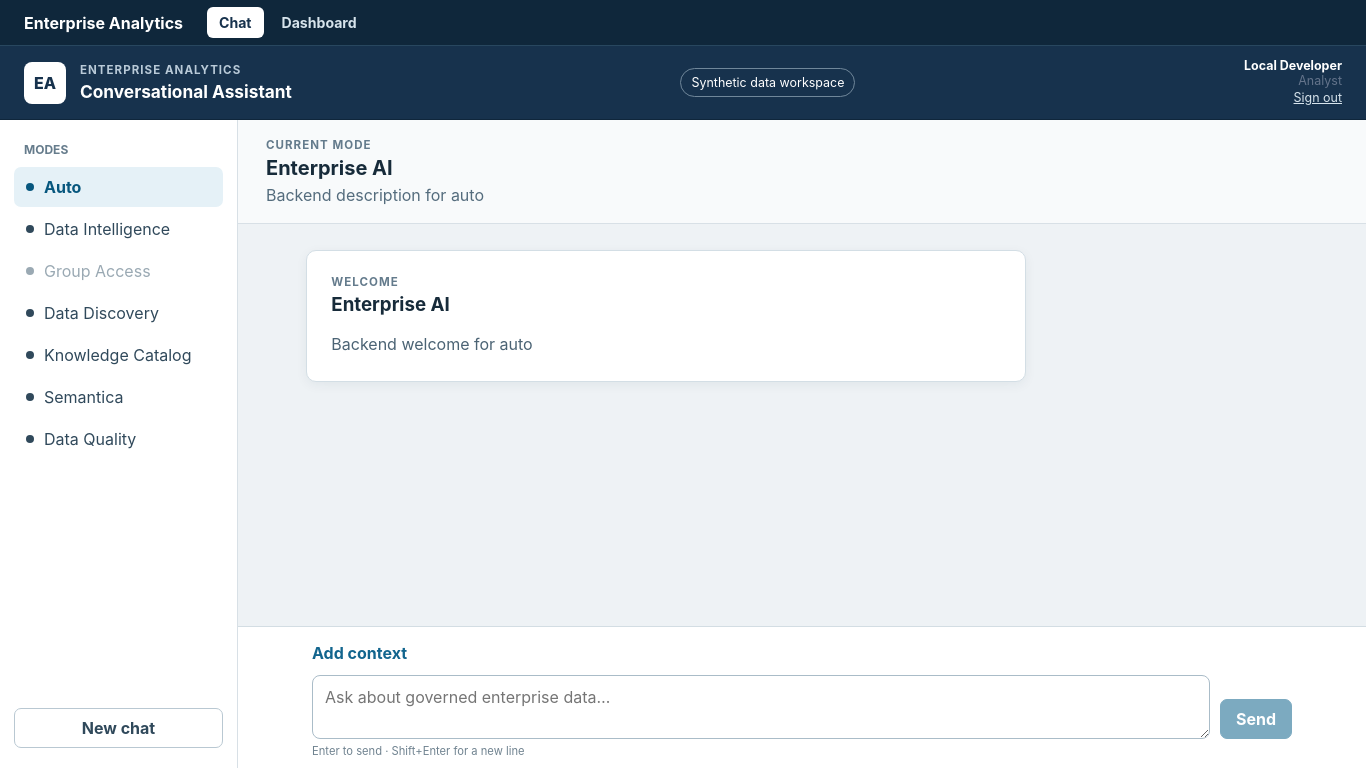
One UI › SQL response is read-only in the UI and Run Query renders rows/chart/truncation
The image size is (1366, 768).
Expected: the text "Backend welcome for auto" is shown, [331,334,533,354]
Click the button "Data Intelligence" at {"x": 118, "y": 229}, box [14,209,223,249]
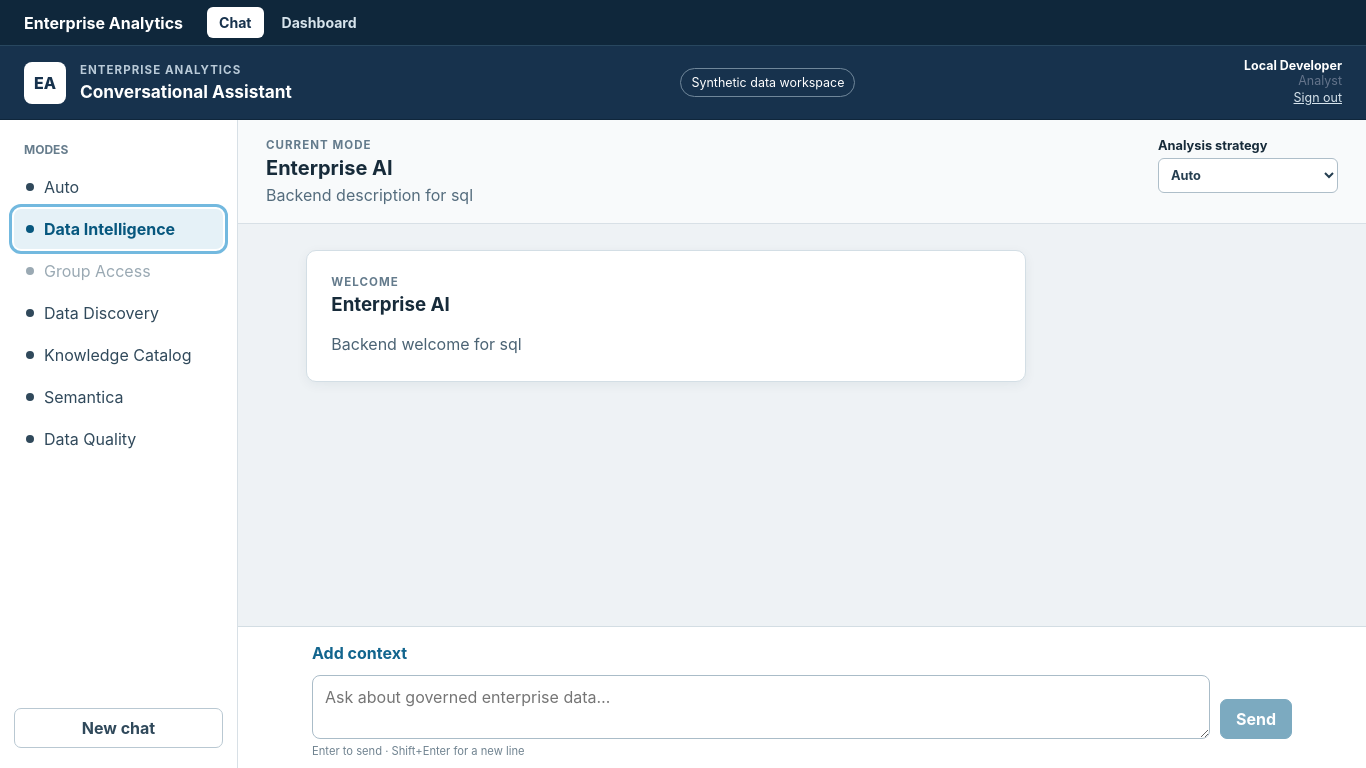
Select "Standard" in the dropdown labelled "Analysis strategy" at {"x": 1248, "y": 176}, box [1158,158,1338,193]
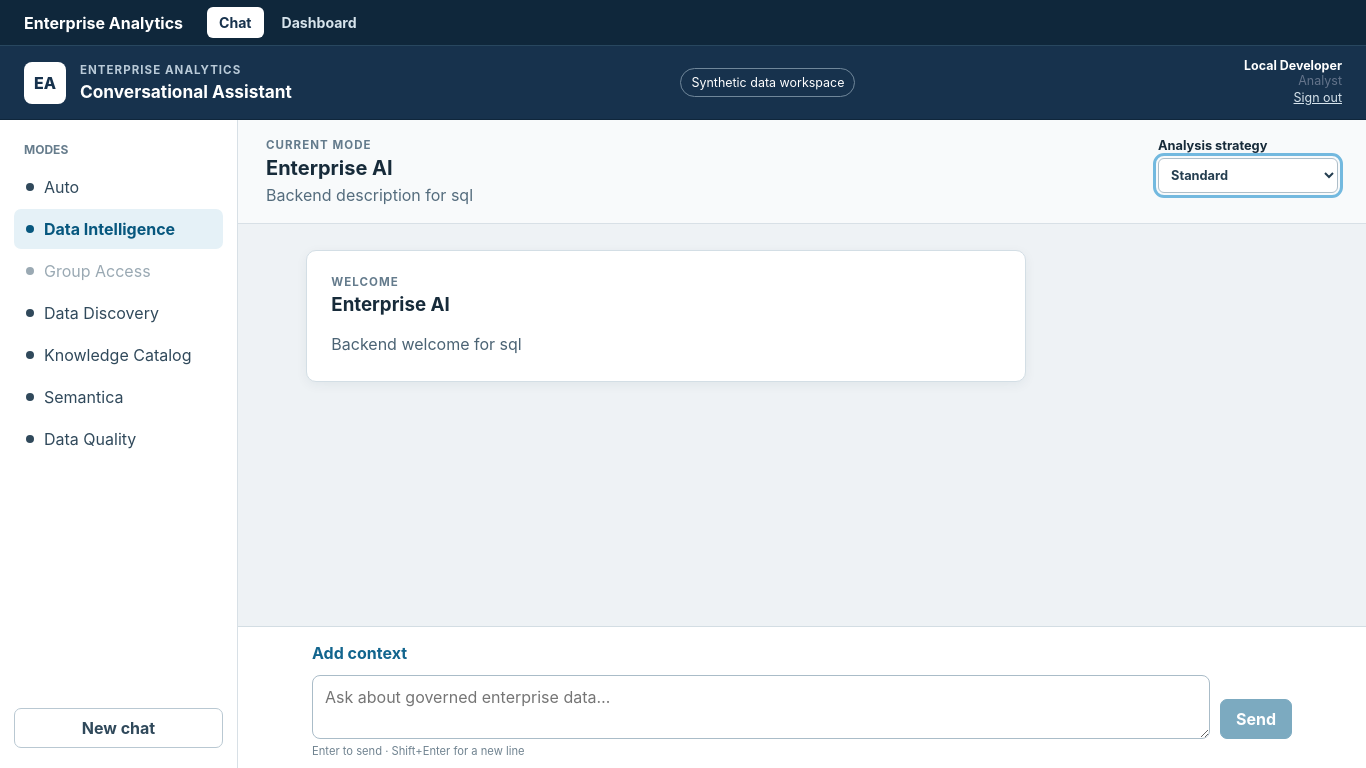
Type "Show claim values" into the text box named "Message" at {"x": 761, "y": 707}, box [312,675,1210,739]
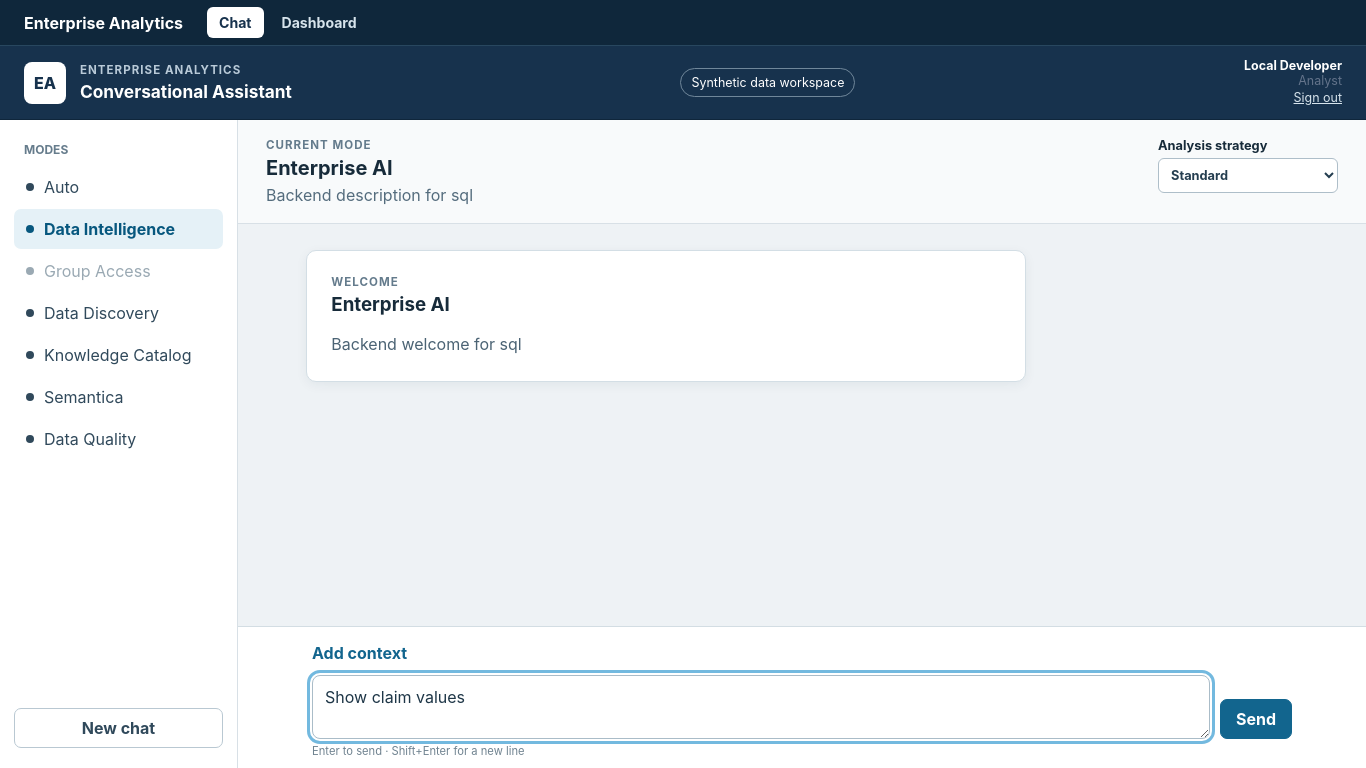
Click the button "Send" at {"x": 1256, "y": 719}, box [1220,699,1292,739]
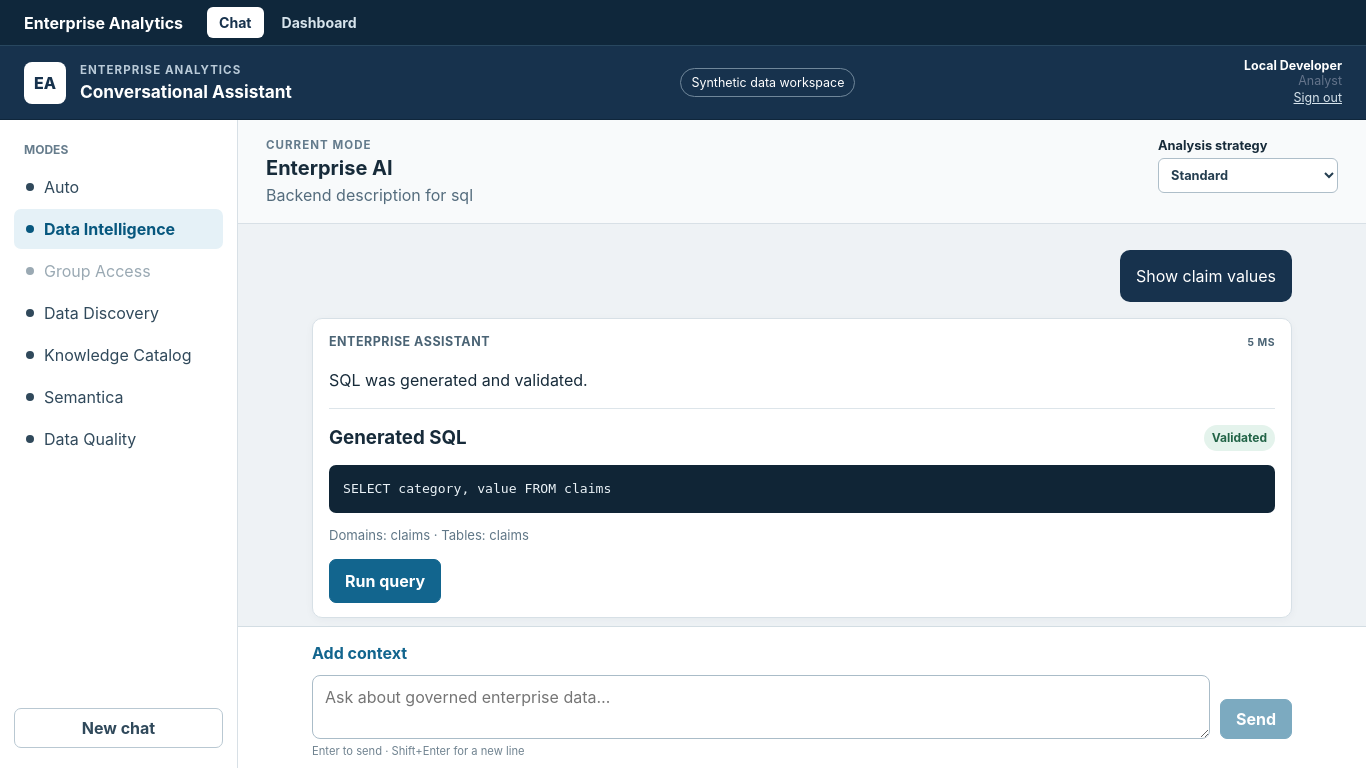
Now the text "SELECT category, value FROM claims" is shown, box [343,481,611,496]
Click the button "Run query" at {"x": 385, "y": 580}, box [329,558,441,602]
(page scrolled)
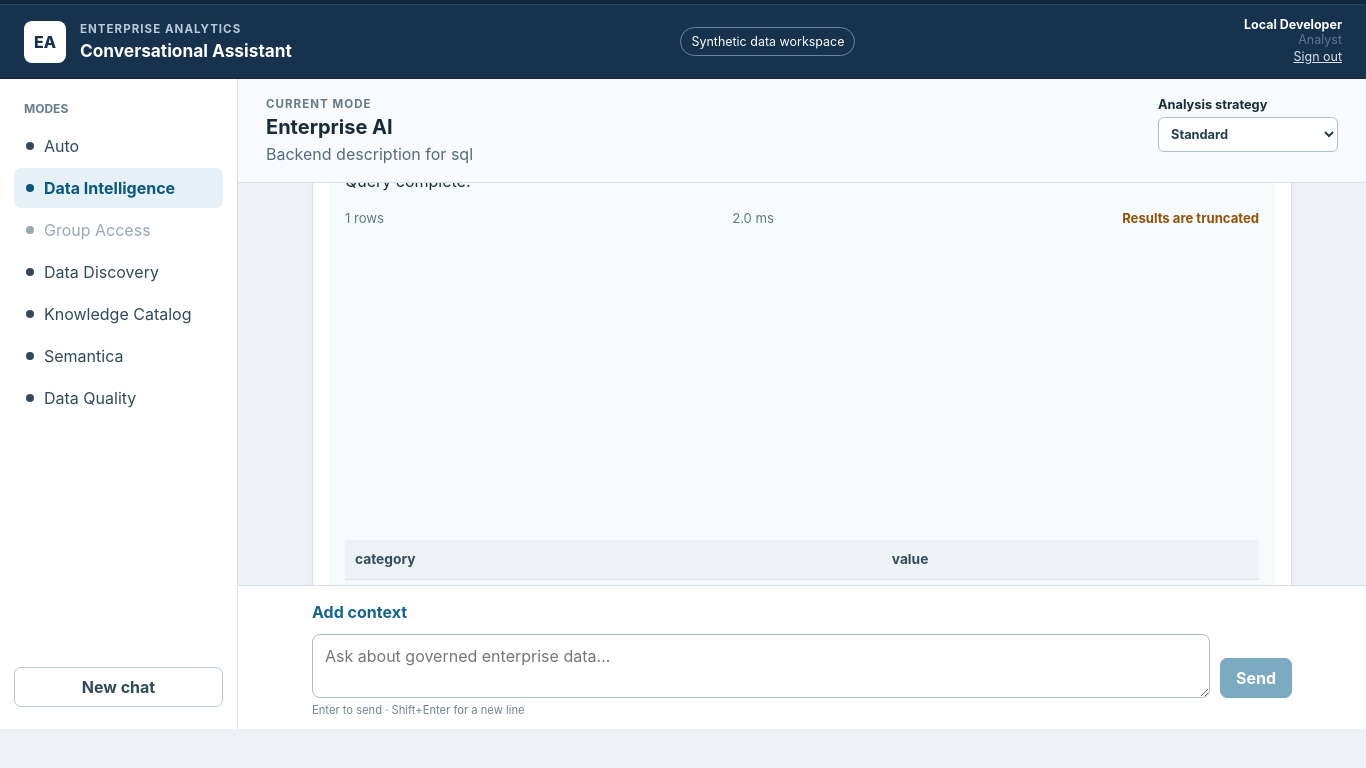
Now the text "Results are truncated" is shown, box [1122,208,1259,228]
